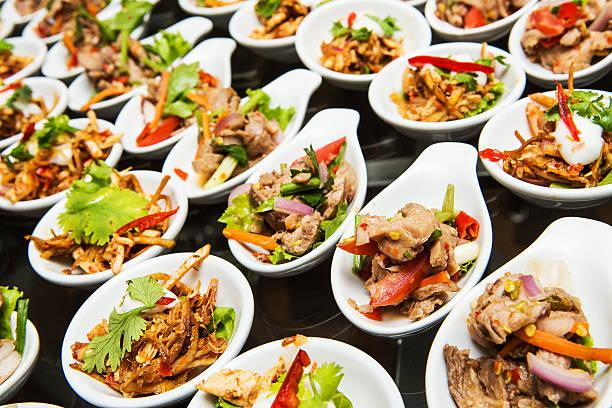Braised Crucian Carp: (424, 217, 611, 407), (60, 254, 251, 407), (339, 166, 487, 337), (224, 112, 369, 275), (156, 68, 326, 201), (25, 171, 183, 286), (363, 37, 527, 134), (478, 91, 609, 207), (117, 33, 234, 157), (294, 0, 430, 90), (0, 109, 122, 208), (507, 0, 610, 87)
